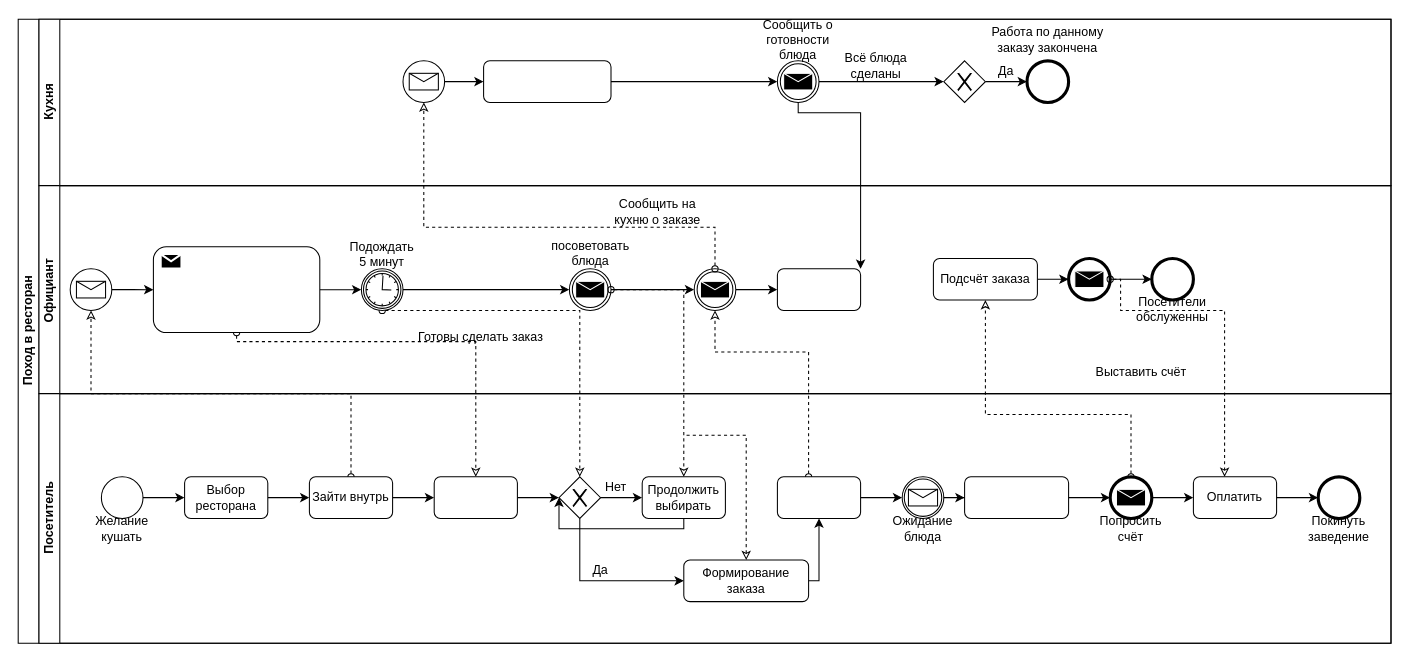
Image size: 1409x661. Some labels were removed from this diagram. Each missing label, with the centre of its shape:
"Готовка блюд по заказу" goes at point 547,81.
"Оформить заказ" goes at point 818,497.
"Поприветствовать посетителей и найти для них подходящий столик" goes at point 236,289.
"Сесть за столик" goes at point 475,497.
"Употребление заказанных блюд" goes at point 1016,497.
